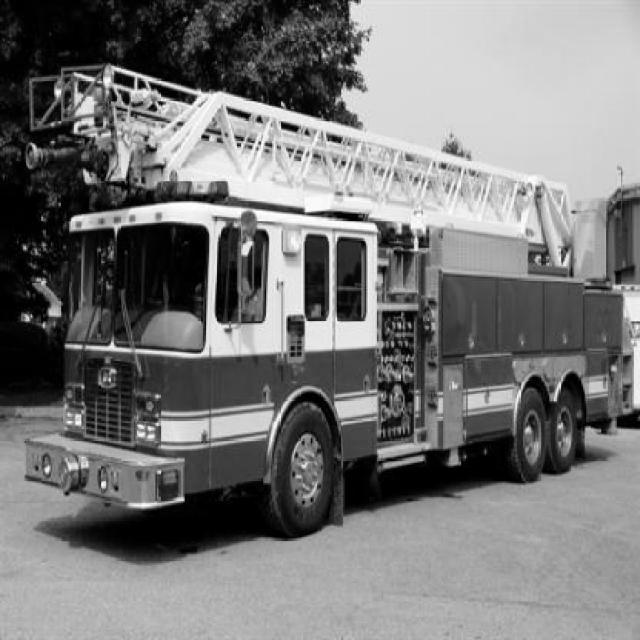Fire Truck: (23, 64, 638, 541)
